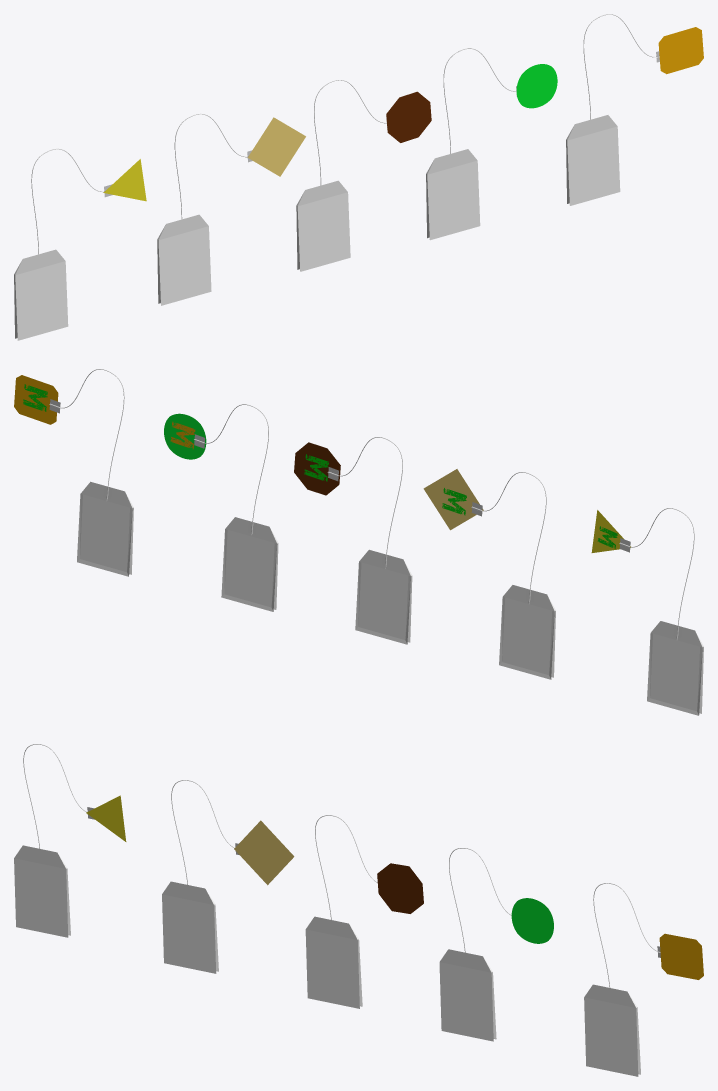
File: Tea Bags set.fbx
The picture shows the model from 3 angles, top to bottom: view 1: azimuth 30°, elevation 25°; view 2: azimuth 150°, elevation 25°; view 3: azimuth 330°, elevation 25°; orthographic projection. The views are drawn at different scales.
Visible parts, largest first — view 1: T_Teabag2, T_Teabag3, T_Teabag1, T_teaBag, Solid.008, L_SquareA, L_Octagon, L_Square_B, L_Circle, L_Triangle; view 2: T_Teabag2, T_Teabag1, T_teaBag, T_Teabag3, Solid.008, L_SquareA, L_Octagon, L_Square_B, L_Circle, L_Triangle; view 3: T_Teabag1, T_Teabag2, Solid.008, T_Teabag3, T_teaBag, L_SquareA, L_Octagon, L_Square_B, L_Circle, L_Triangle.
Part boxes in pixels (x1=…): T_Teabag2: x1=296, y1=180, x2=350, y2=271; T_Teabag3: x1=157, y1=214, x2=211, y2=305; T_Teabag1: x1=426, y1=149, x2=480, y2=240; T_teaBag: x1=566, y1=115, x2=620, y2=205; Solid.008: x1=14, y1=249, x2=68, y2=340; L_SquareA: x1=247, y1=117, x2=305, y2=176; L_Octagon: x1=386, y1=91, x2=431, y2=142; L_Square_B: x1=658, y1=27, x2=703, y2=74; L_Circle: x1=516, y1=64, x2=557, y2=108; L_Triangle: x1=103, y1=159, x2=146, y2=201; T_Teabag2: x1=355, y1=549, x2=412, y2=644; T_Teabag1: x1=221, y1=517, x2=278, y2=611; T_teaBag: x1=77, y1=481, x2=133, y2=576; T_Teabag3: x1=499, y1=585, x2=555, y2=679; Solid.008: x1=647, y1=621, x2=703, y2=715; L_SquareA: x1=423, y1=469, x2=483, y2=530; L_Octagon: x1=294, y1=442, x2=340, y2=495; L_Square_B: x1=14, y1=375, x2=58, y2=424; L_Circle: x1=164, y1=413, x2=206, y2=459; L_Triangle: x1=591, y1=510, x2=630, y2=552; T_Teabag1: x1=439, y1=949, x2=496, y2=1041; T_Teabag2: x1=305, y1=916, x2=362, y2=1008; Solid.008: x1=14, y1=845, x2=70, y2=937; T_Teabag3: x1=162, y1=881, x2=218, y2=973; T_teaBag: x1=584, y1=984, x2=640, y2=1076; L_SquareA: x1=234, y1=820, x2=294, y2=885; L_Octagon: x1=377, y1=863, x2=423, y2=913; L_Square_B: x1=659, y1=933, x2=703, y2=979; L_Circle: x1=511, y1=898, x2=553, y2=943; L_Triangle: x1=86, y1=795, x2=126, y2=841.
Size of the model in its own units: 1188 by 314 by 42.03.
